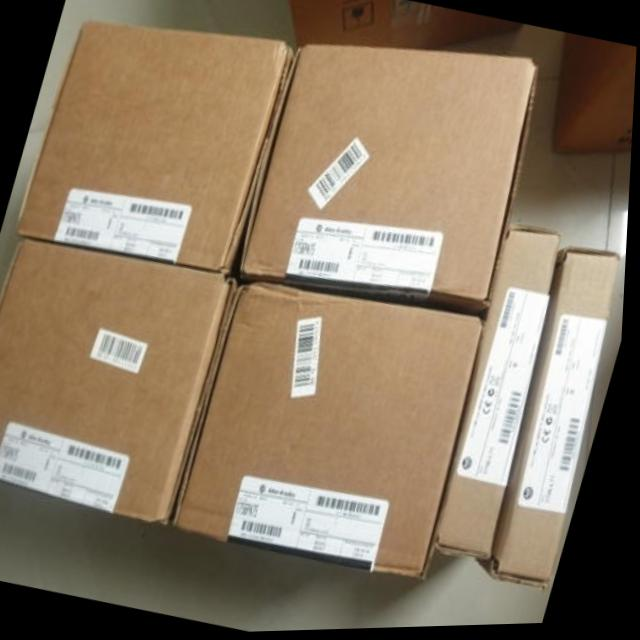box: (176, 282, 489, 582), (242, 46, 540, 307), (19, 22, 292, 273), (0, 241, 240, 526), (480, 252, 623, 593), (440, 224, 567, 562), (289, 0, 520, 53), (552, 35, 637, 158)
